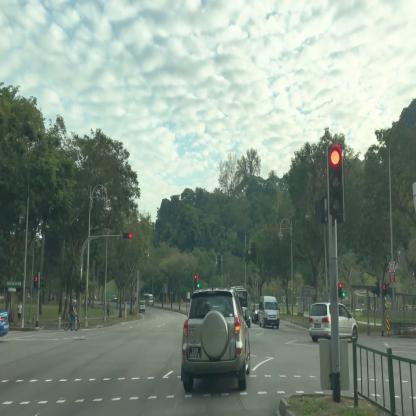red_traffic_light: (326, 144, 344, 220), (122, 231, 132, 239)
